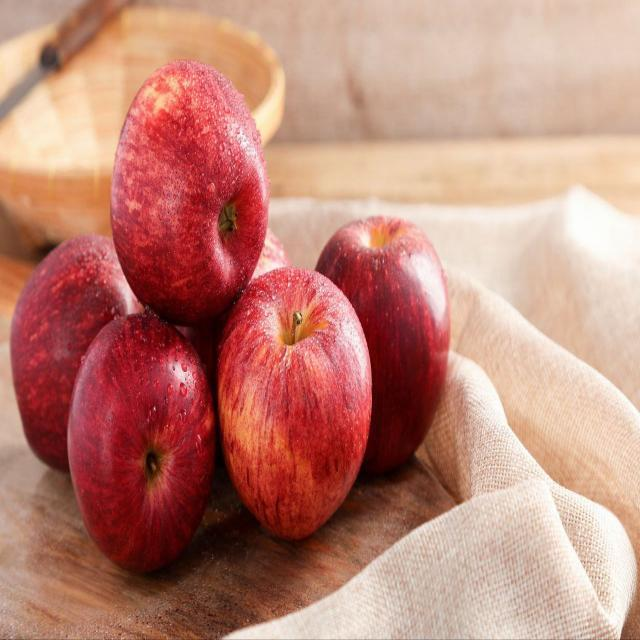Fresh Apple: (107, 78, 293, 330), (213, 280, 385, 533), (80, 317, 223, 565), (325, 207, 455, 473), (0, 227, 130, 460)
